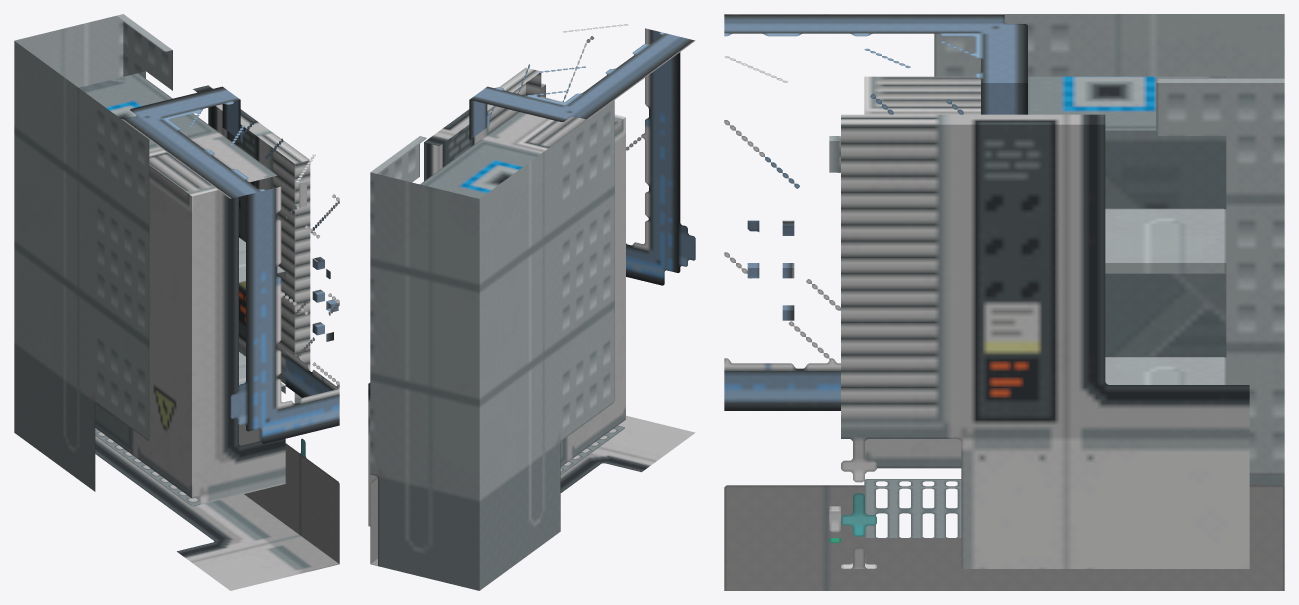
The model's file is industrial_oven.obj.
3 views of the same model, side by side, from view 1: azimuth 30°, elevation 25°; view 2: azimuth 150°, elevation 25°; view 3: azimuth 270°, elevation 25° (orthographic). The views are drawn at different scales.
Size of the model in its own units: 1 by 3 by 3.
